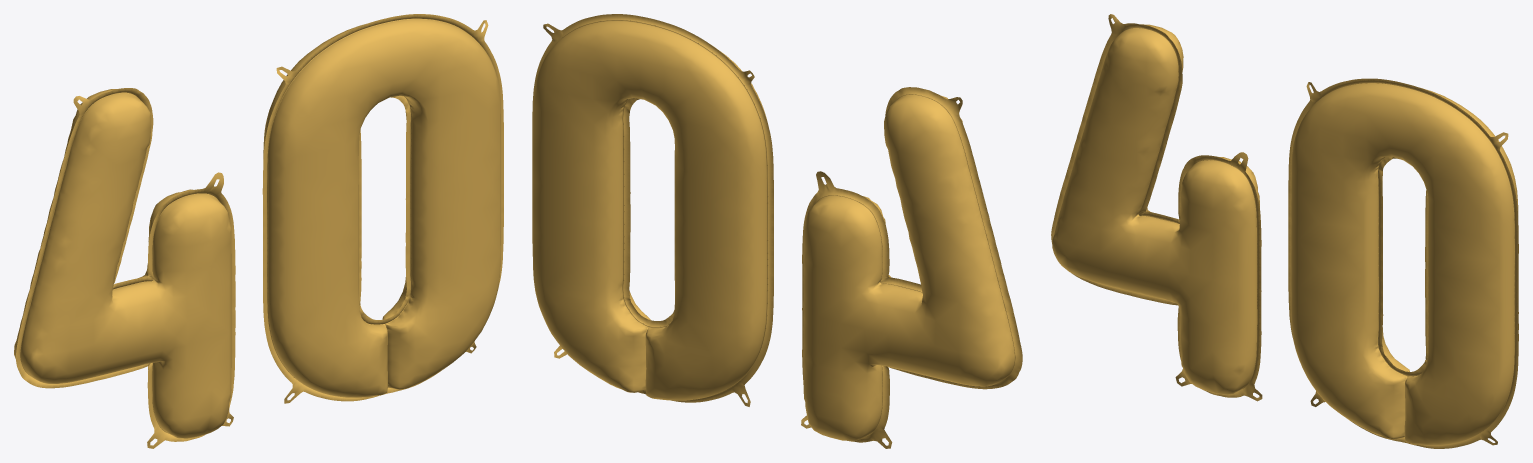
Rendered from birthday-transformed.glb.
The picture shows the model from 3 angles, left to right: view 1: azimuth 30°, elevation 25°; view 2: azimuth 150°, elevation 25°; view 3: azimuth 330°, elevation 25°; orthographic projection. The views are drawn at different scales.
Visible parts, largest first — view 1: Zero, Four; view 2: Zero, Four; view 3: Zero, Four.
Boxes of the visible parts, box(x1,y1,x2,y2) form: Zero: box(262, 14, 503, 403); Four: box(14, 88, 235, 448); Zero: box(532, 14, 773, 406); Four: box(801, 87, 1022, 448); Zero: box(1288, 78, 1518, 448); Four: box(1051, 14, 1262, 401).
Size of the model in its own units: 8.5 by 6.25 by 0.9272.
